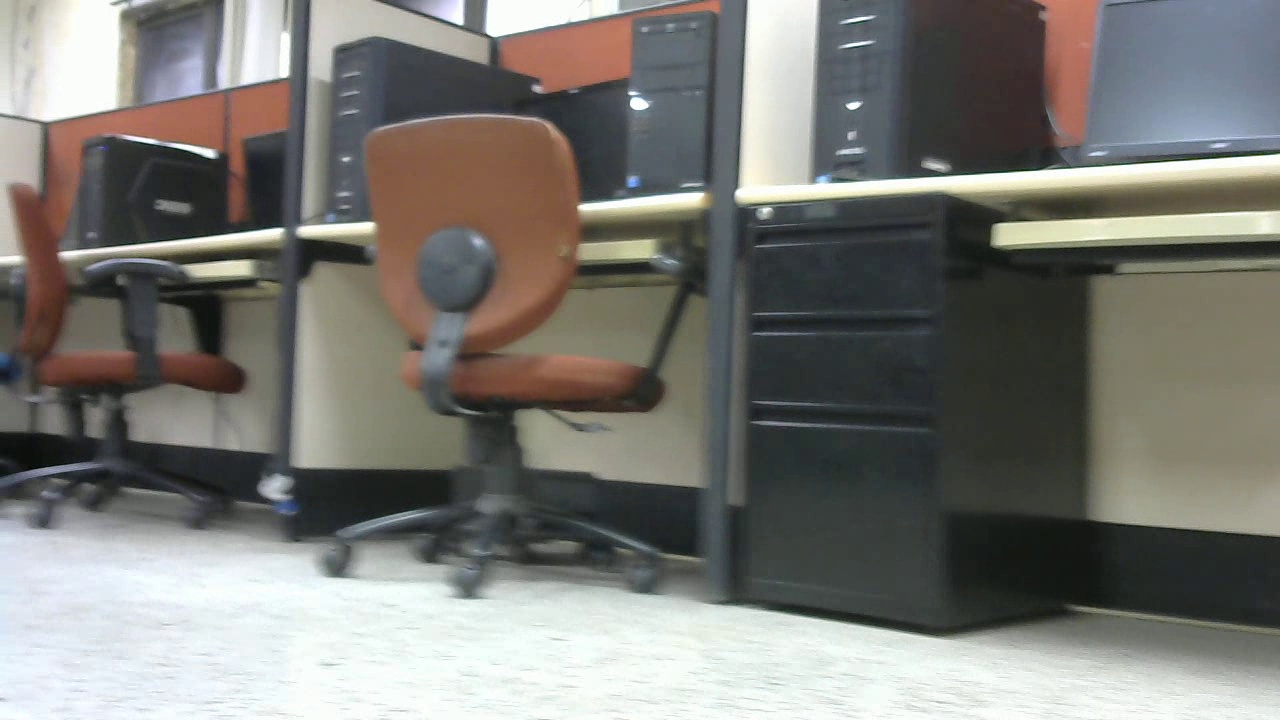chair: (313, 113, 702, 597), (1, 177, 252, 534)
